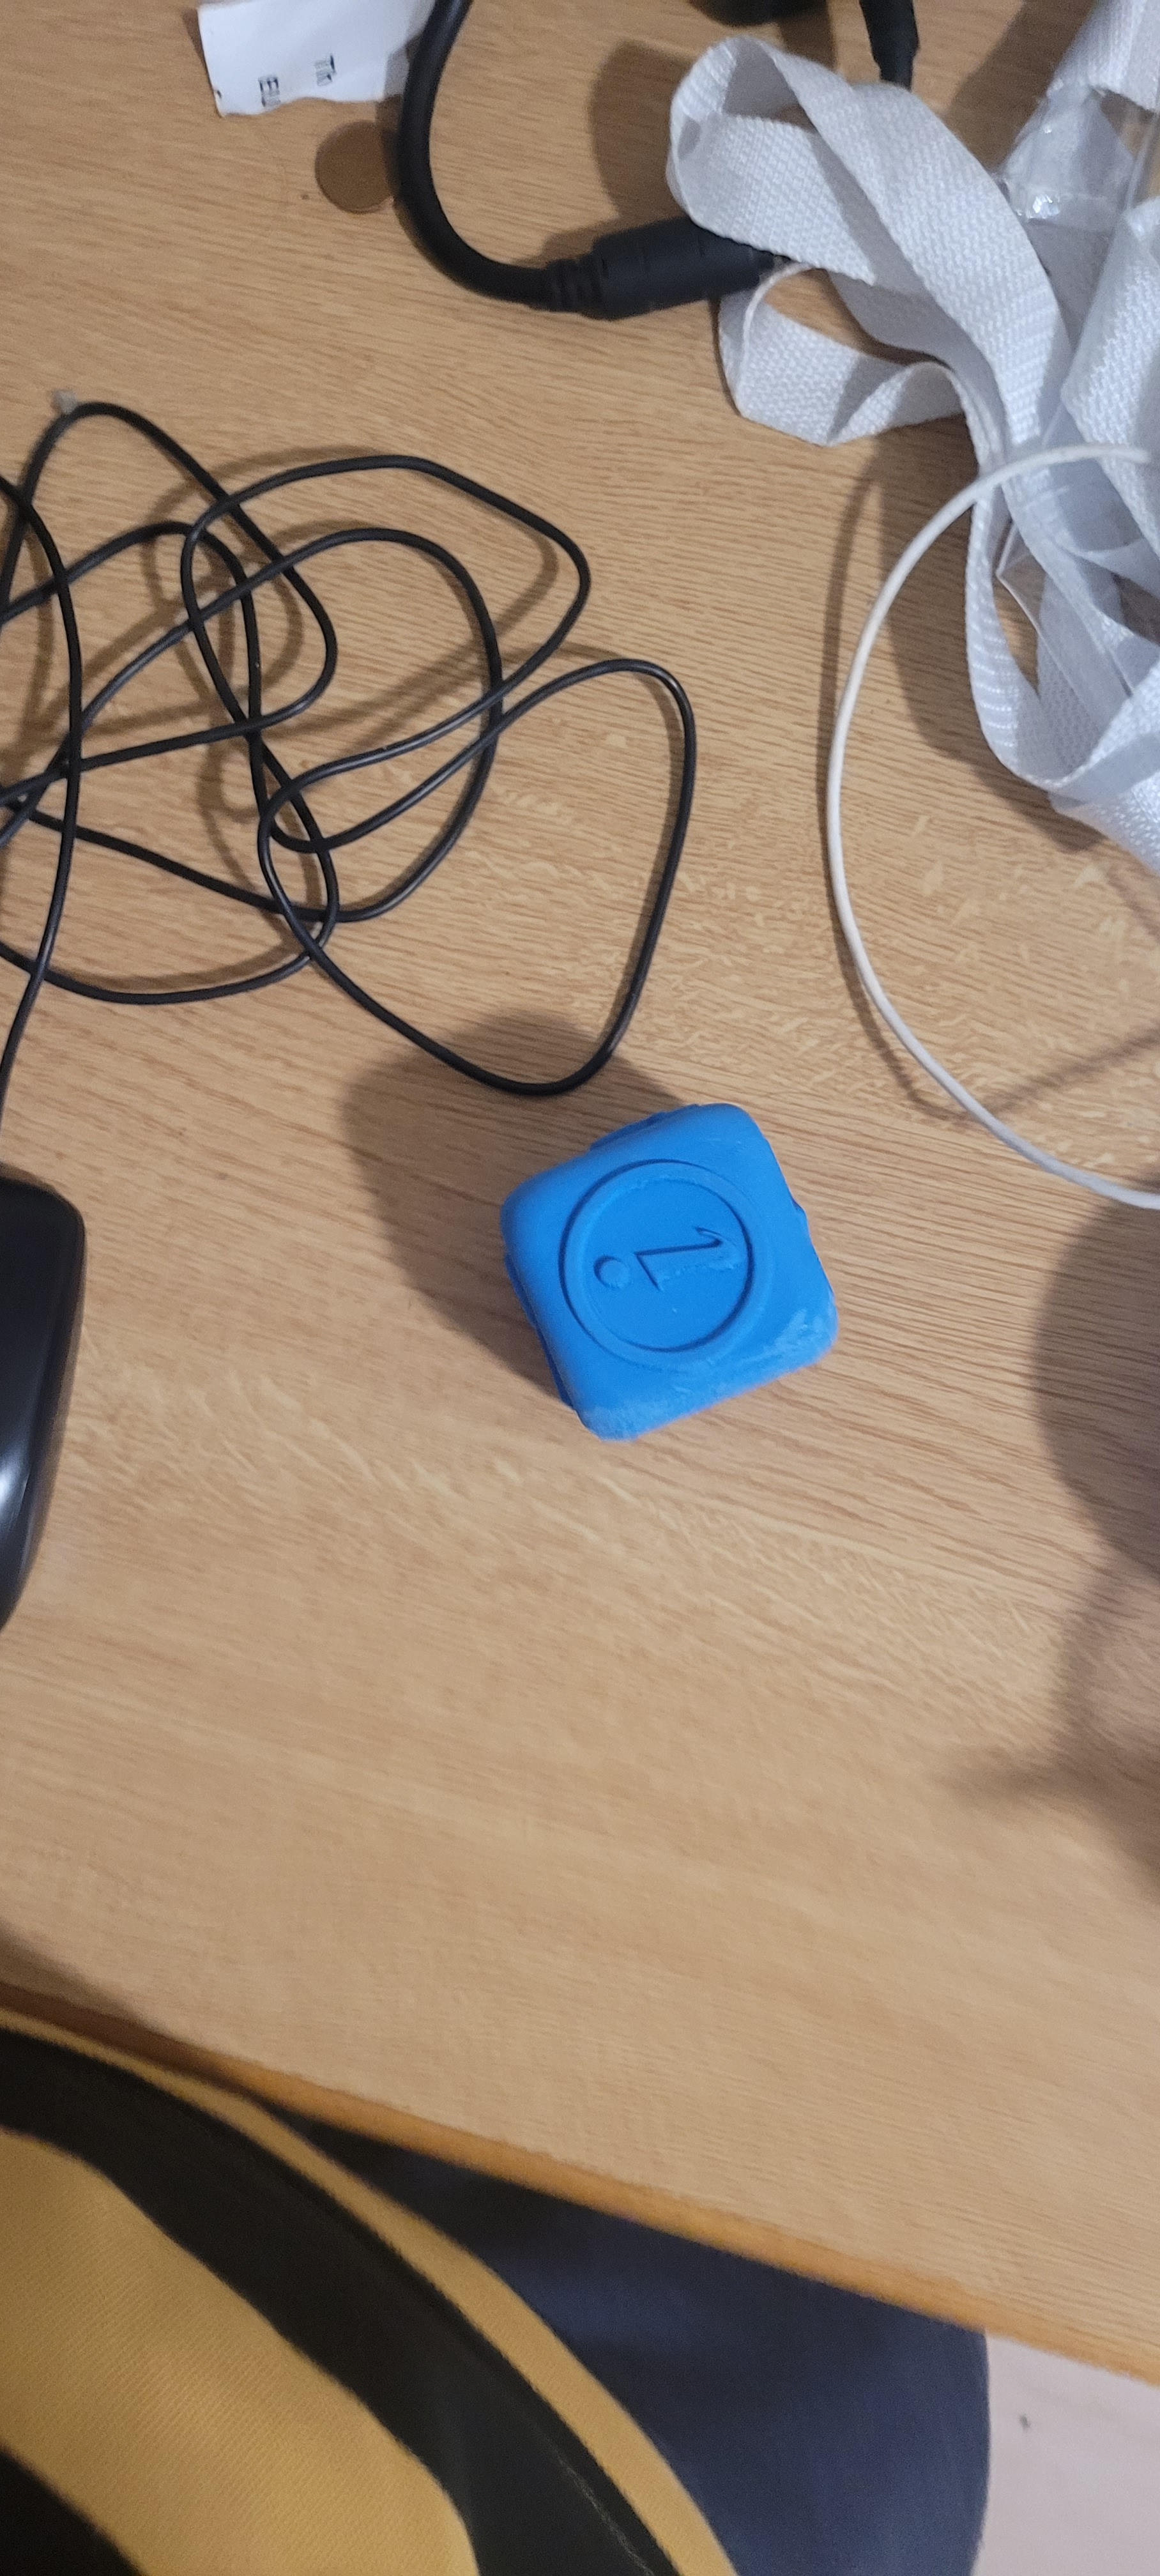Info: (529, 1161, 815, 1377)
